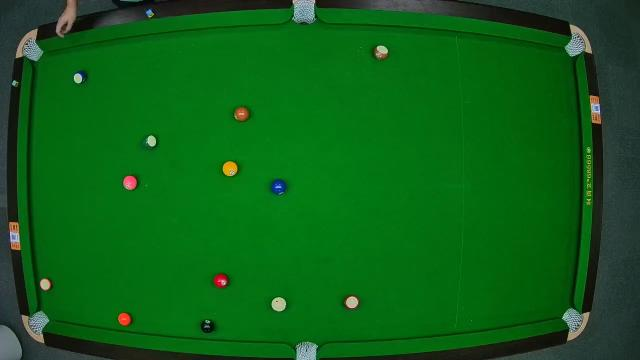bag1: (21, 40, 41, 60)
bag2: (293, 0, 315, 24)
bag3: (568, 36, 586, 56)
bag4: (30, 310, 48, 332)
bag5: (294, 340, 318, 360)
bag6: (563, 308, 583, 332)
ball0: (272, 298, 288, 312)
ball1: (222, 162, 238, 178)
ball10: (73, 71, 87, 85)
ball11: (342, 294, 360, 310)
ball12: (38, 277, 52, 291)
ball14: (143, 136, 157, 148)
ball15: (373, 44, 389, 60)
ball2: (270, 179, 286, 195)
ball3: (213, 274, 229, 288)
ball4: (123, 176, 137, 190)
ball5: (118, 312, 132, 326)
ball7: (234, 106, 250, 122)
ball8: (200, 320, 216, 332)
